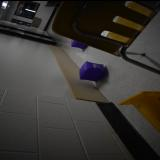cone: (118, 90, 160, 134)
cube: (78, 60, 106, 82), (71, 38, 88, 48)
